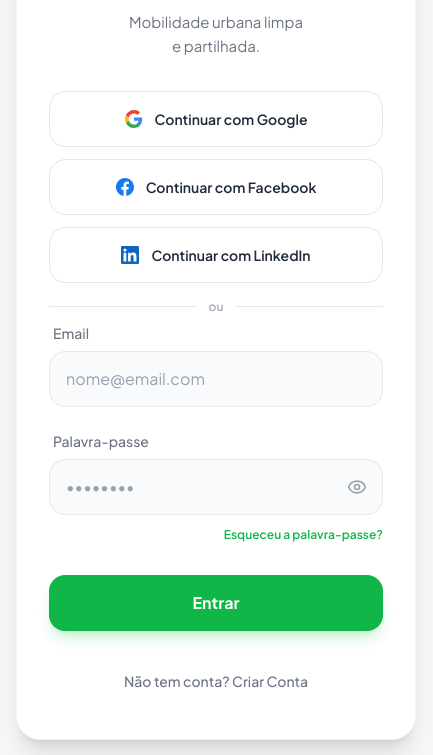
it: Auth Component › renderiza o Toggle de Perfil, Nome e Telefone em modo Criar Conta
(page scrolled)
Click the button "Não tem conta? Criar Conta" at (216, 681), box [124,671,308,691]
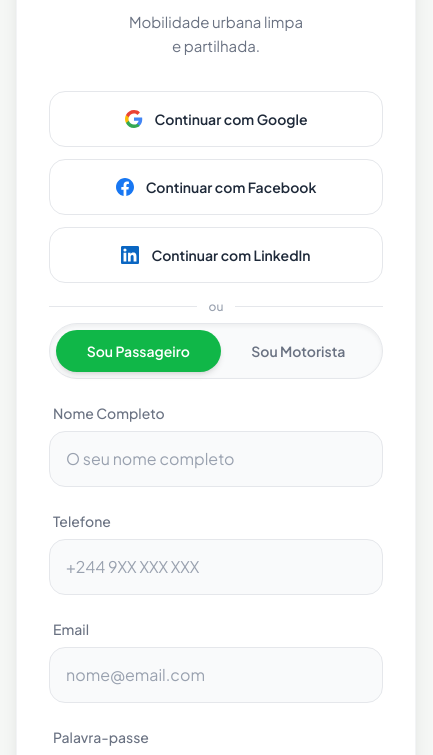
Now the radio button labelled "Sou Passageiro" is shown, box [56,330,221,372]
Now the radio button labelled "Sou Motorista" is shown, box [251,342,345,360]
Now the field labelled "Nome Completo" is shown, box [49,431,383,487]
